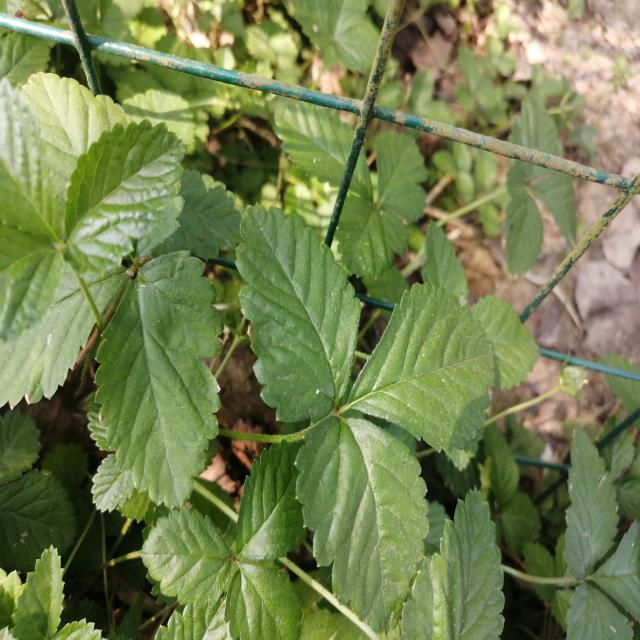Mock_strawberry: (144, 440, 323, 630)
